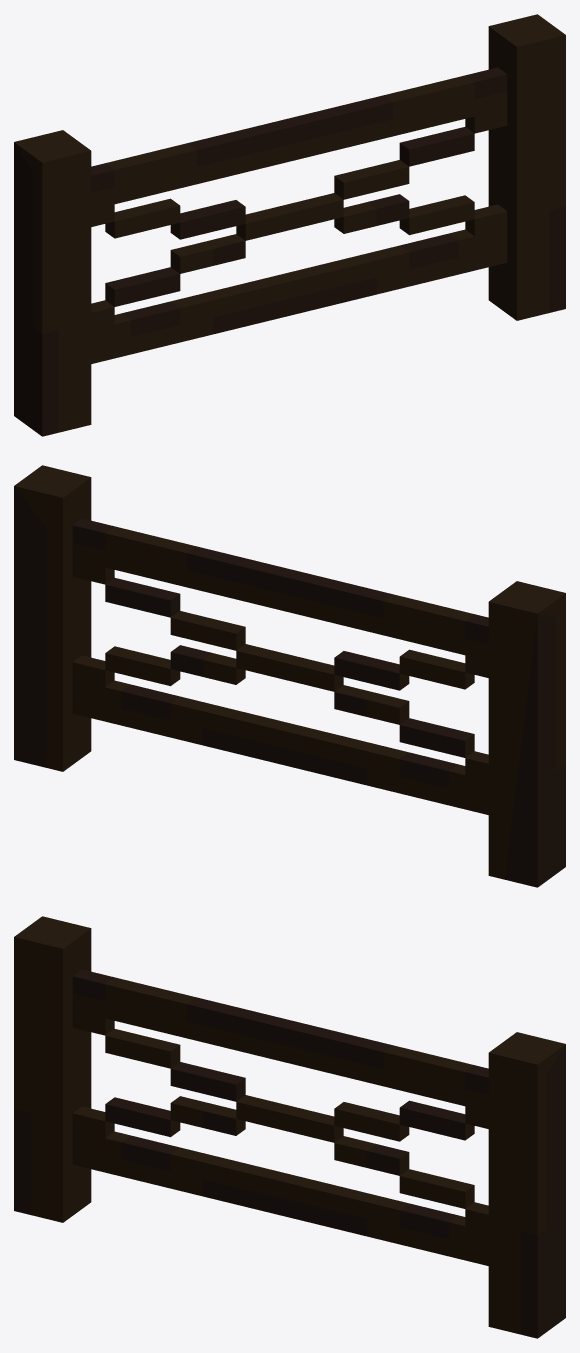
Rendered from fence_maya.fbx.
The picture shows the model from 3 angles, top to bottom: view 1: azimuth 30°, elevation 25°; view 2: azimuth 150°, elevation 25°; view 3: azimuth 330°, elevation 25°; orthographic projection.
Visible parts, largest first — view 1: voxel_2_fence2:Mesh; view 2: voxel_2_fence2:Mesh; view 3: voxel_2_fence2:Mesh.
Part boxes in pixels (x1,y1,x2,y2): voxel_2_fence2:Mesh: (14,14,565,436); voxel_2_fence2:Mesh: (14,465,565,887); voxel_2_fence2:Mesh: (14,916,565,1338).
Size of the model in its own units: 3.2 by 1.6 by 0.3.
